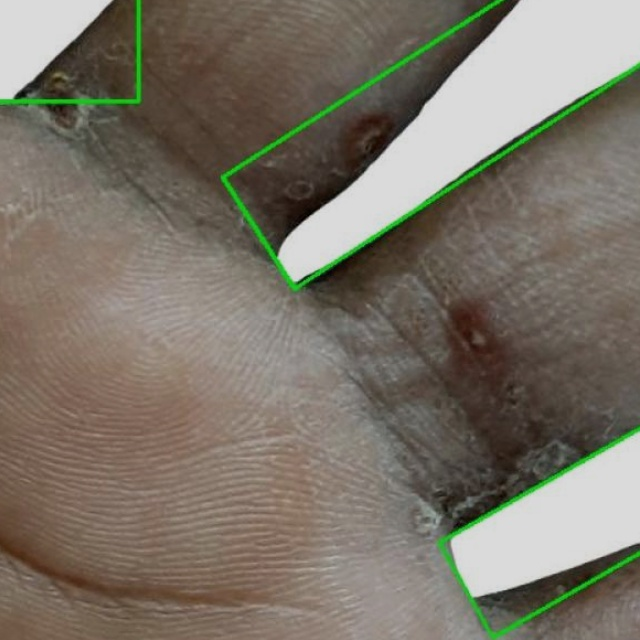Scabies: (221, 0, 639, 289), (427, 394, 639, 637), (0, 0, 138, 101)
